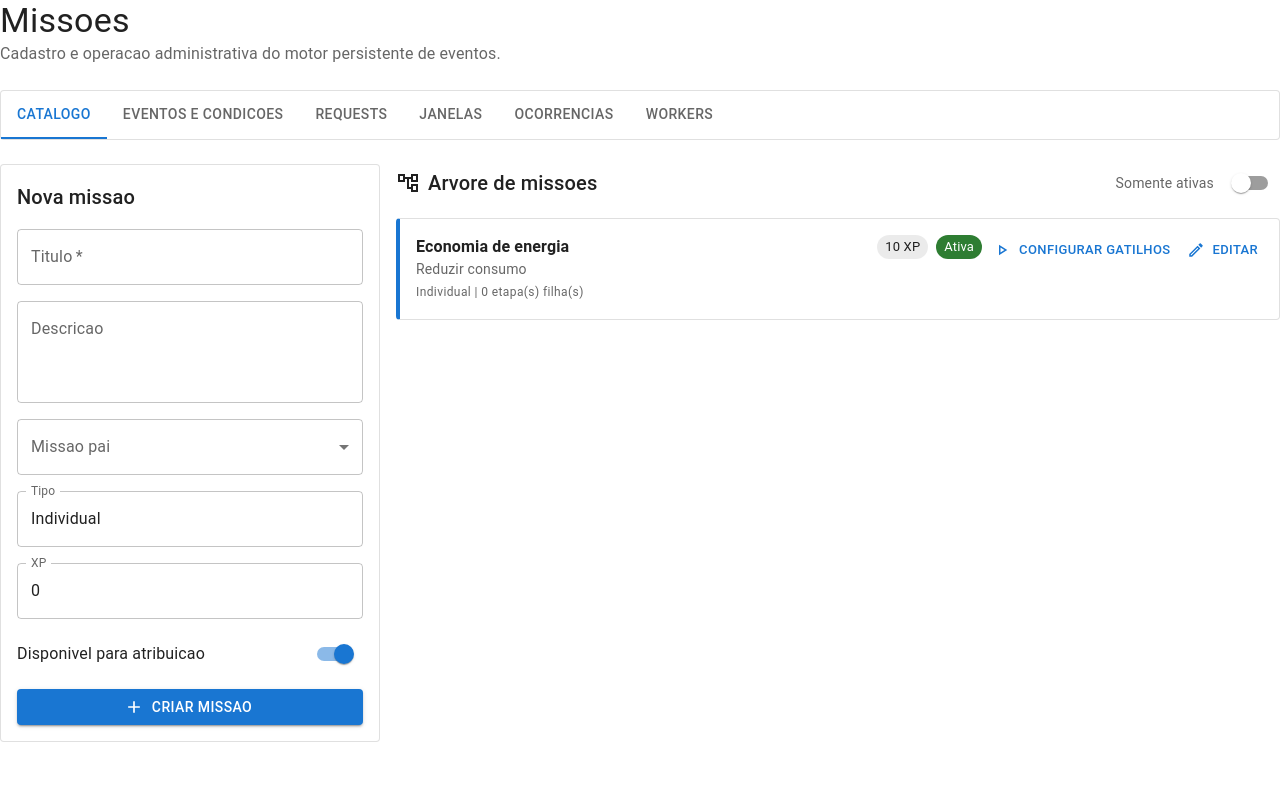
Test case: MissionsAdminPage › lista ocorrencias e evidencias
The image size is (1280, 800).
Click the tab "Ocorrencias": (564, 115) [498, 91, 630, 139]
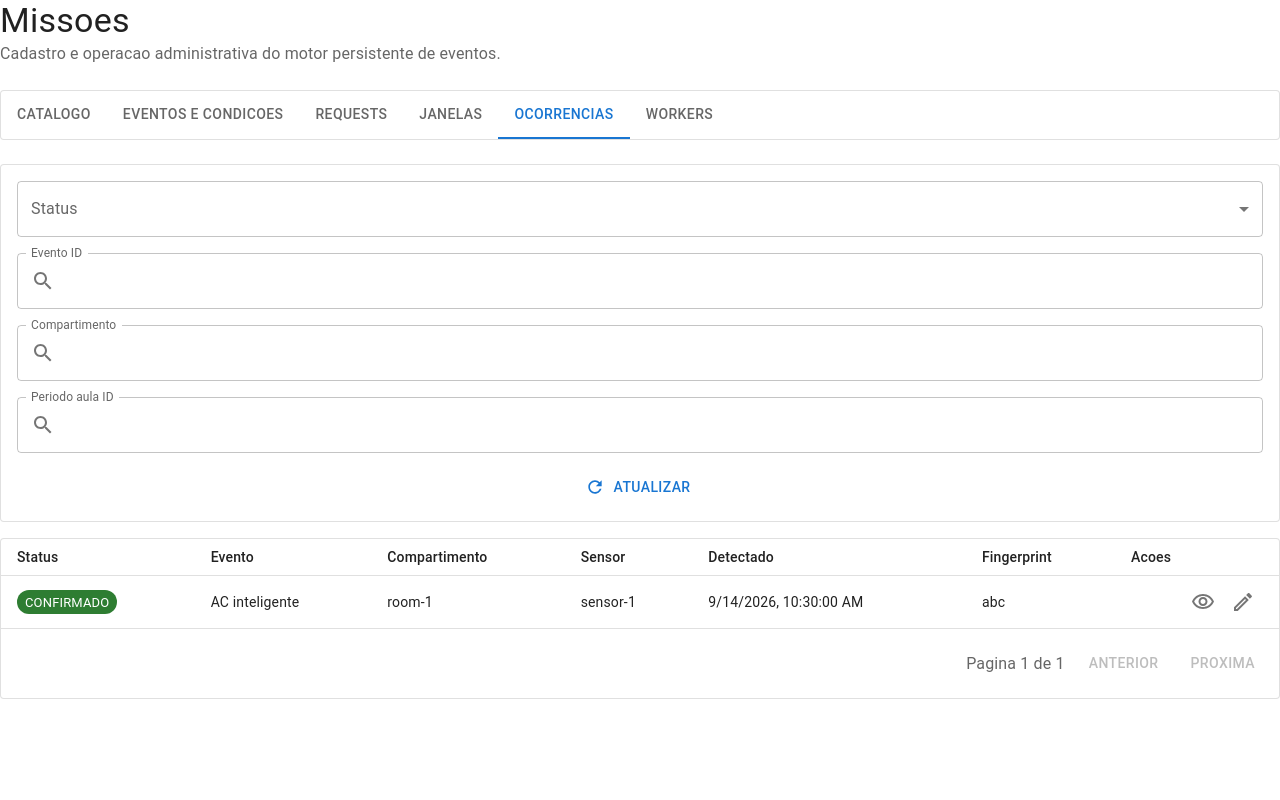
Expected: the text "sensor-1" is shown, [565, 576, 692, 629]
Click the button named "Ver evidencias da ocorrencia occurrence-1": (1203, 602) [1183, 582, 1223, 622]
(page scrolled)
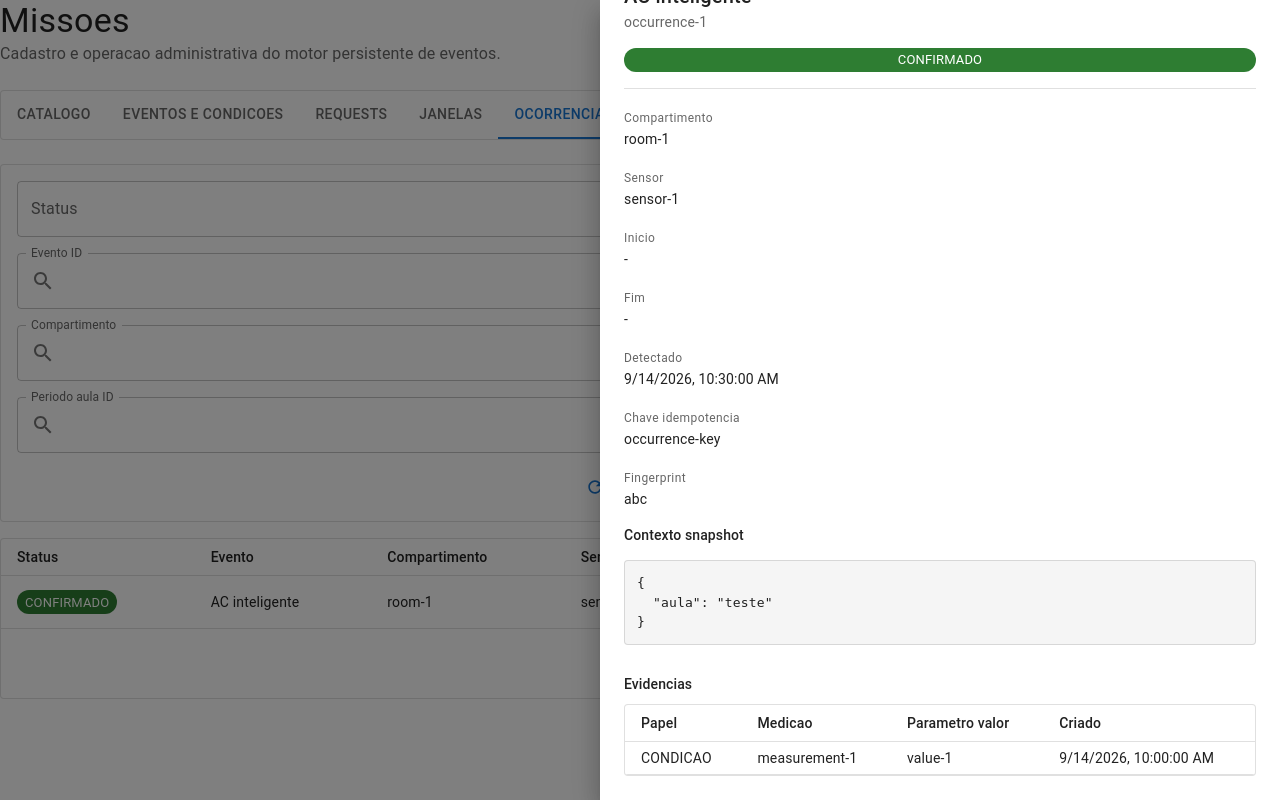
Expected: the text "CONDICAO" is shown, [625, 741, 741, 774]
